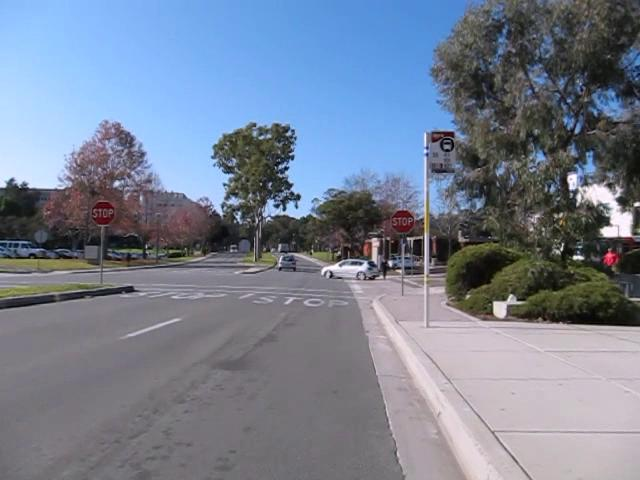stop: (90, 200, 117, 226), (390, 209, 415, 234)
